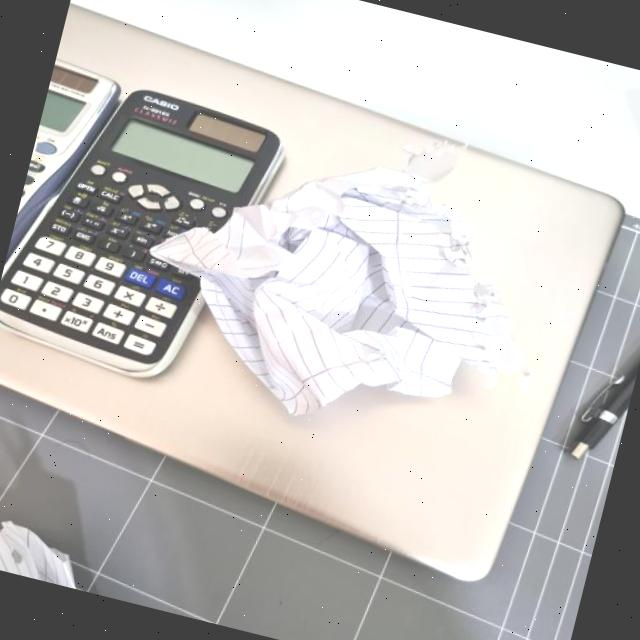trash: (178, 122, 559, 474)
